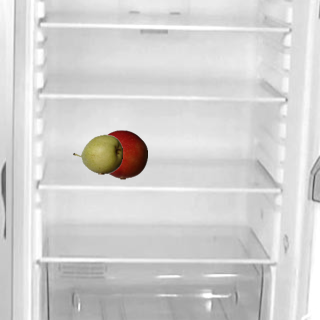Apple Braeburn: (97, 129, 147, 179)
Pear: (72, 129, 122, 179)
